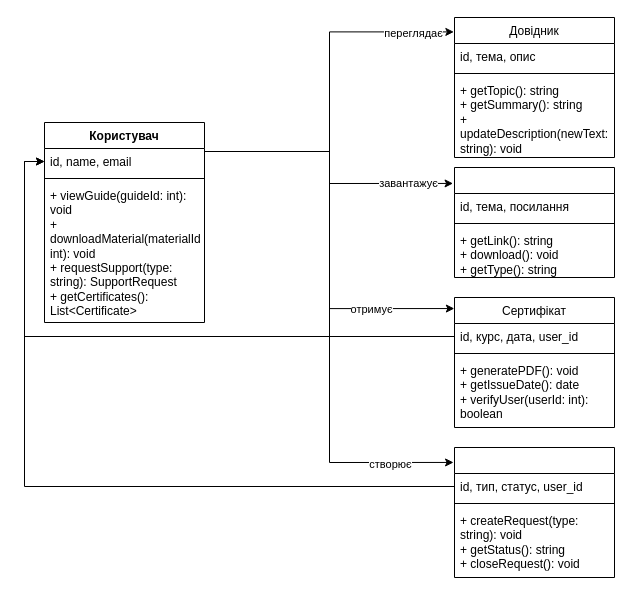
Image size: 632x598. Some labels were removed from this diagram. The shapes that lost their labels are listed below. From the top down, each one's box as (x1, y1, x2, y2) in pixels, then its label:
(454, 166, 614, 278): Матеріал
(454, 446, 614, 578): Запит на підтримку
